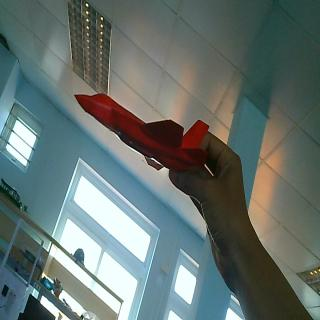Jet: (74, 90, 210, 177)
